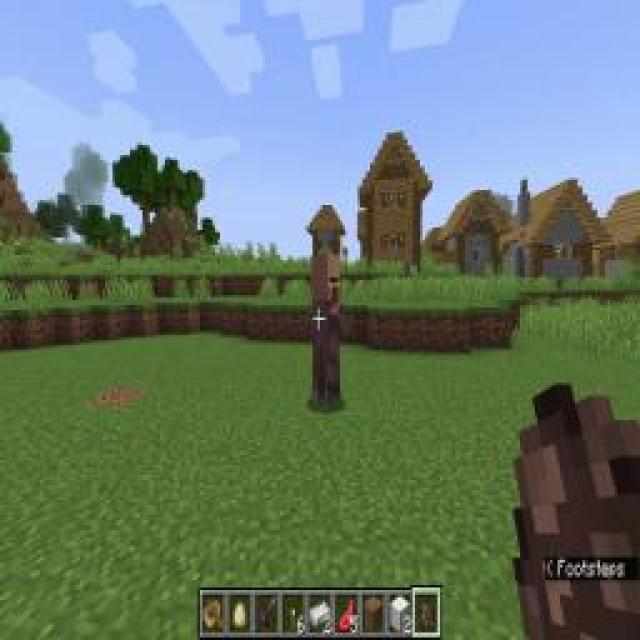Villager House: (310, 249, 350, 411)
